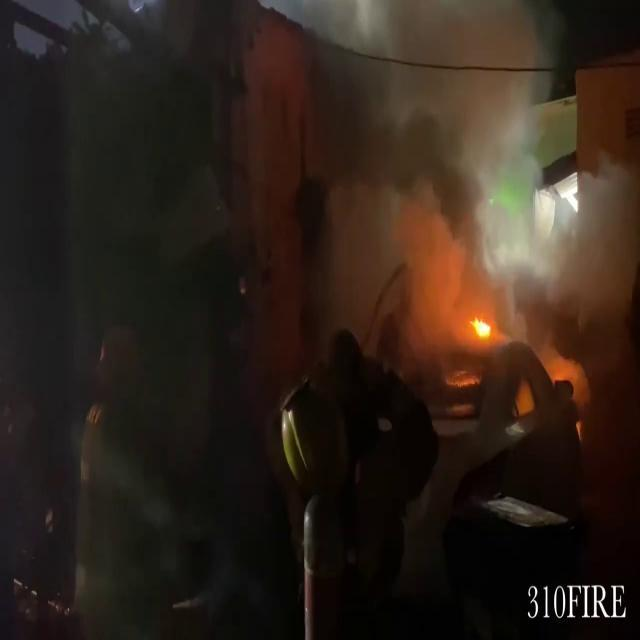Fire: (464, 306, 500, 348)
Smoke: (307, 0, 531, 361)
